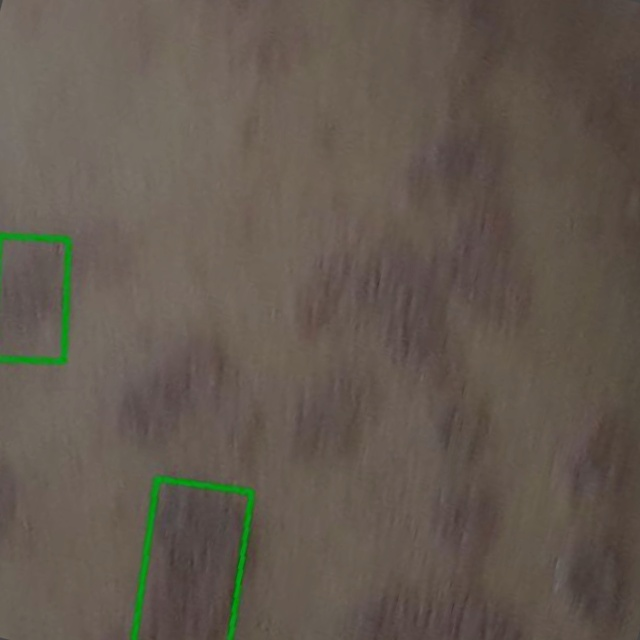Tinea Corporis: (133, 477, 250, 639), (0, 235, 68, 360)
